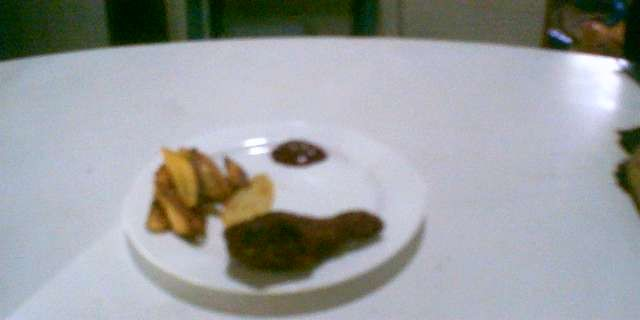chicken: (222, 207, 383, 276)
ketchup_portion: (271, 134, 329, 168)
potatoe_fries: (143, 141, 273, 247)
